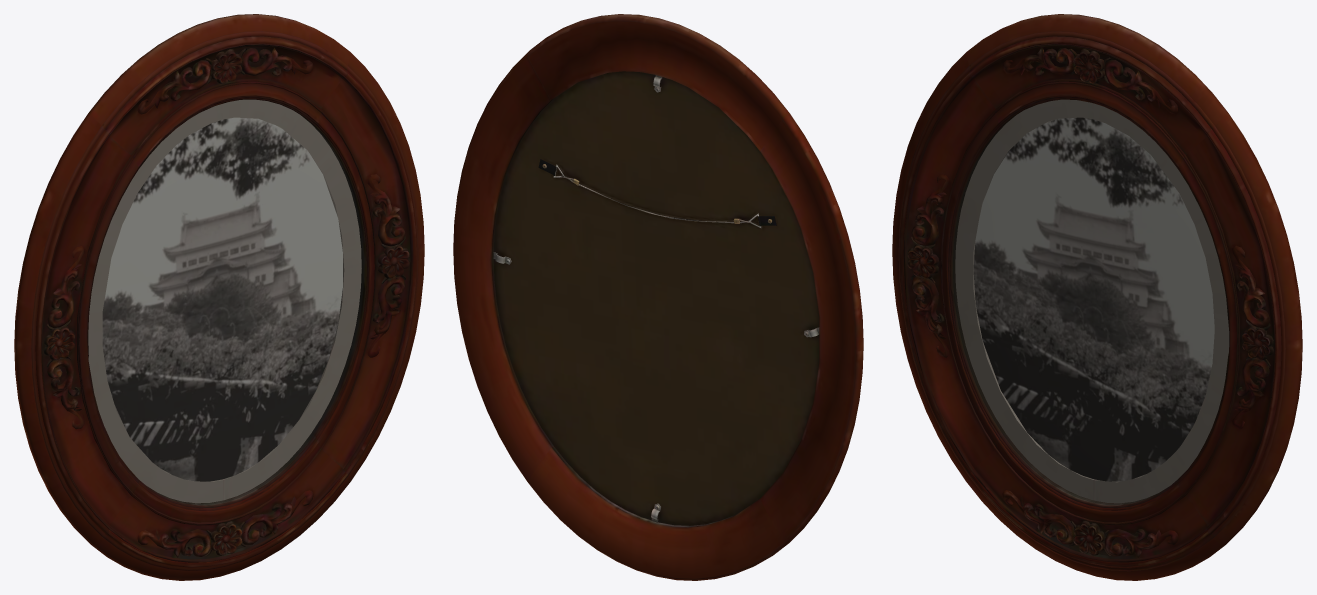
File: hanging_picture_frame_03.b9e46f7f.glb
3 views of the same model, side by side, from view 1: azimuth 30°, elevation 25°; view 2: azimuth 150°, elevation 25°; view 3: azimuth 330°, elevation 25° (orthographic).
Parts seen in each view (by area): view 1: hanging_picture_frame_03, hanging_picture_frame_03_glass; view 2: hanging_picture_frame_03; view 3: hanging_picture_frame_03, hanging_picture_frame_03_glass.
Boxes of the visible parts, x1,y1,x2,y2 form: hanging_picture_frame_03: (14,14,424,580); hanging_picture_frame_03_glass: (88,100,364,504); hanging_picture_frame_03: (453,14,863,580); hanging_picture_frame_03: (892,14,1302,580); hanging_picture_frame_03_glass: (953,100,1228,504).
Size of the model in its own units: 0.7664 by 1 by 0.0632.
3 materials, 2 textured.
